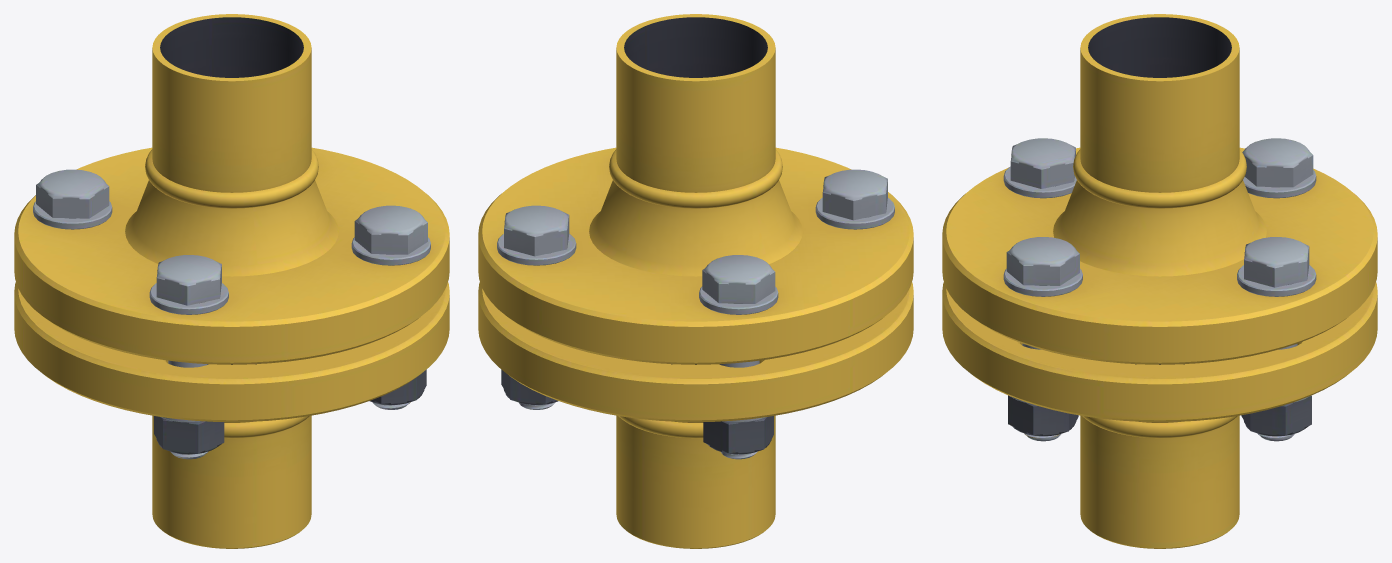
The model's file is fitting.glb.
3 views of the same model, side by side, from view 1: azimuth 30°, elevation 25°; view 2: azimuth 150°, elevation 25°; view 3: azimuth 270°, elevation 25° (orthographic).
Parts seen in each view (by area): view 1: flange_body; view 2: flange_body; view 3: flange_body.
Part boxes in pixels (box(x1,y1,x2,y2)): flange_body: box(14, 14, 449, 548); flange_body: box(478, 14, 913, 548); flange_body: box(942, 14, 1377, 548).
Size of the model in its own units: 0.165 by 0.1958 by 0.165.
Materials: 1 (1 with a texture image).
